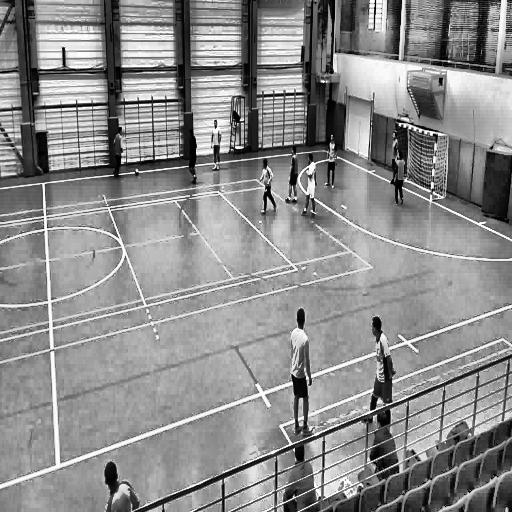ball: (134, 166, 141, 177)
player: (360, 312, 393, 435), (289, 300, 314, 445), (364, 411, 402, 481), (283, 443, 318, 508), (302, 154, 321, 222), (258, 154, 277, 217), (322, 133, 342, 186), (210, 114, 226, 180), (284, 138, 299, 208), (182, 125, 199, 185), (392, 150, 407, 208), (112, 120, 125, 186), (390, 130, 400, 188)
